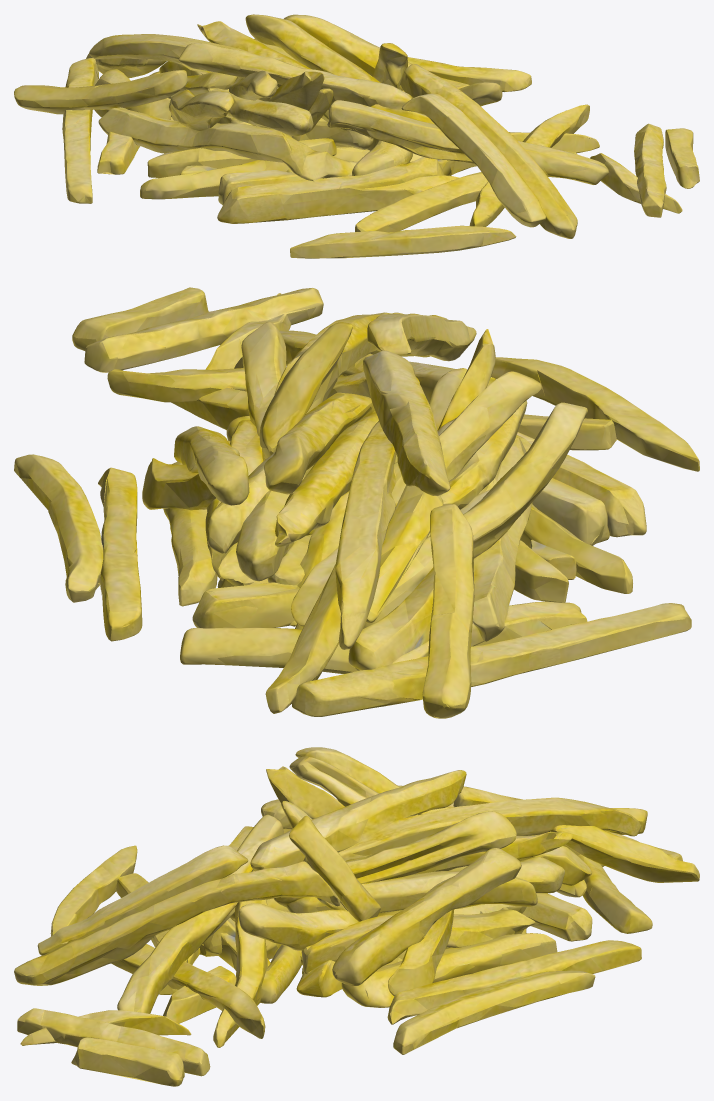
The model's file is loaded-fries.glb.
3 views of the same model, one above another, from view 1: azimuth 30°, elevation 25°; view 2: azimuth 150°, elevation 25°; view 3: azimuth 270°, elevation 25° (orthographic). The views are drawn at different scales.
Size of the model in its own units: 1.89 by 0.4224 by 1.88.
1 material, 1 textured.
